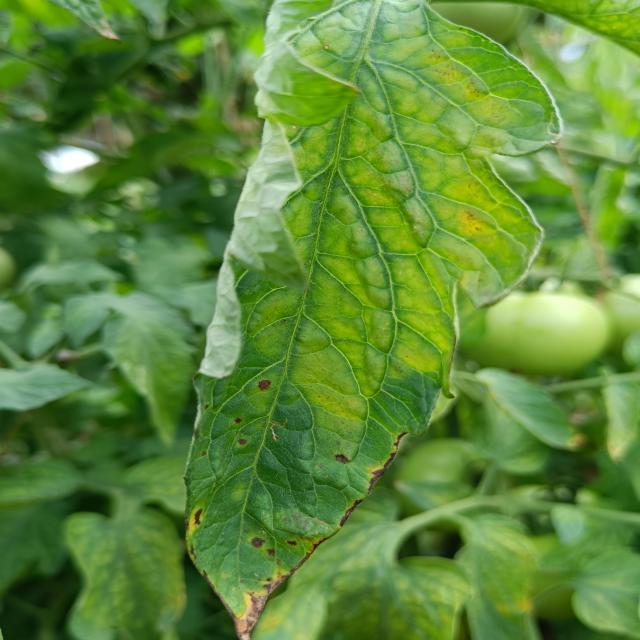Tomato mosaic virus leaf: (177, 307, 435, 640)
